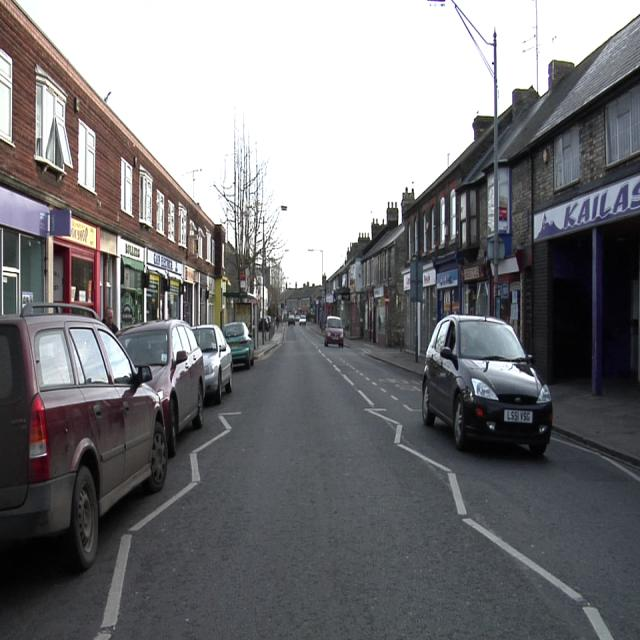Building: (319, 15, 639, 383), (2, 1, 223, 328)
Car: (1, 304, 166, 570), (423, 315, 551, 454), (195, 326, 232, 403), (224, 322, 253, 367), (325, 317, 343, 346)
Road: (0, 327, 639, 627)
Tree: (216, 123, 282, 292)
